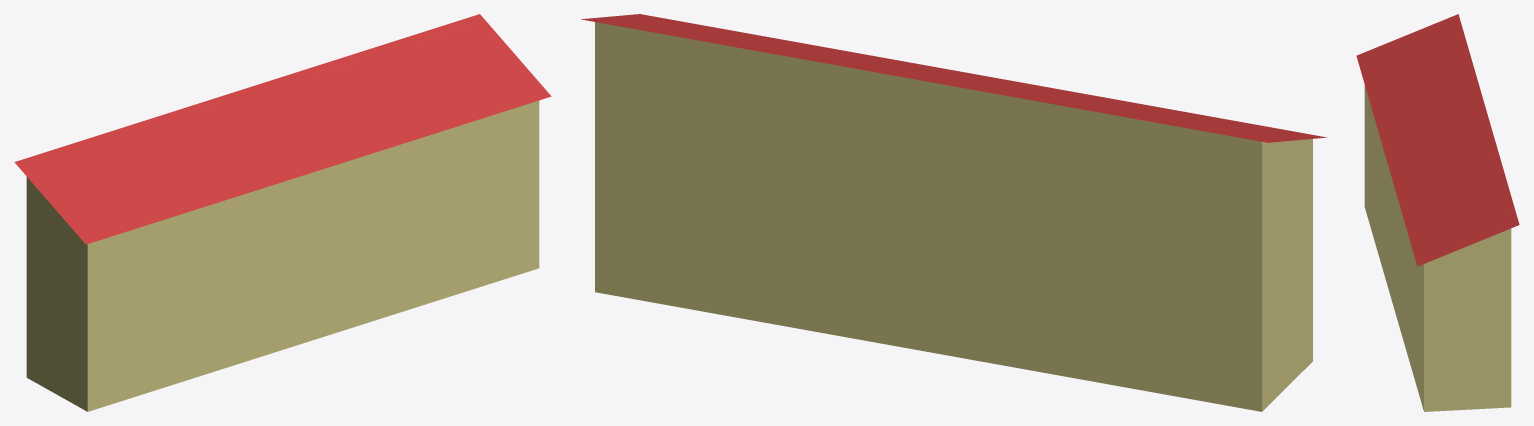
3 views of the same model, side by side, from view 1: azimuth 30°, elevation 25°; view 2: azimuth 150°, elevation 25°; view 3: azimuth 270°, elevation 25° (orthographic). The views are drawn at different scales.
Size of the model in its own units: 16.89 by 5.39 by 6.75.
